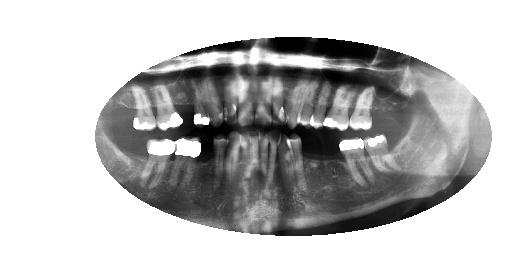i10healthy: (241, 130, 250, 182)
i11healthy: (228, 129, 241, 185)
i12healthy: (211, 134, 229, 189)
i13loss: (198, 137, 214, 189)
i14healthy: (171, 134, 204, 189)
i15healthy: (141, 138, 179, 192)
i16loss: (123, 135, 148, 181)
i1healthy: (362, 131, 400, 177)
i2healthy: (338, 134, 374, 189)
i3loss: (320, 138, 346, 191)
i4loss: (303, 134, 319, 190)
i5healthy: (286, 133, 309, 189)
i6healthy: (278, 133, 291, 190)
i7decay: (268, 130, 281, 182)
i8healthy: (259, 130, 270, 182)
i9healthy: (248, 130, 259, 180)
u1loss: (374, 86, 399, 128), (109, 87, 134, 128)
u2healthy: (349, 86, 379, 133), (131, 83, 158, 132)
u3healthy: (323, 83, 356, 132), (153, 84, 182, 132)
u4loss: (172, 81, 195, 125)
u5healthy: (296, 77, 323, 127), (189, 79, 211, 126)
u6healthy: (284, 72, 305, 129), (203, 76, 226, 126)
u7healthy: (272, 74, 285, 125), (224, 75, 237, 122)
u8healthy: (255, 75, 274, 126)
u9healthy: (236, 73, 257, 127)
uhealthy: (310, 79, 332, 128)
